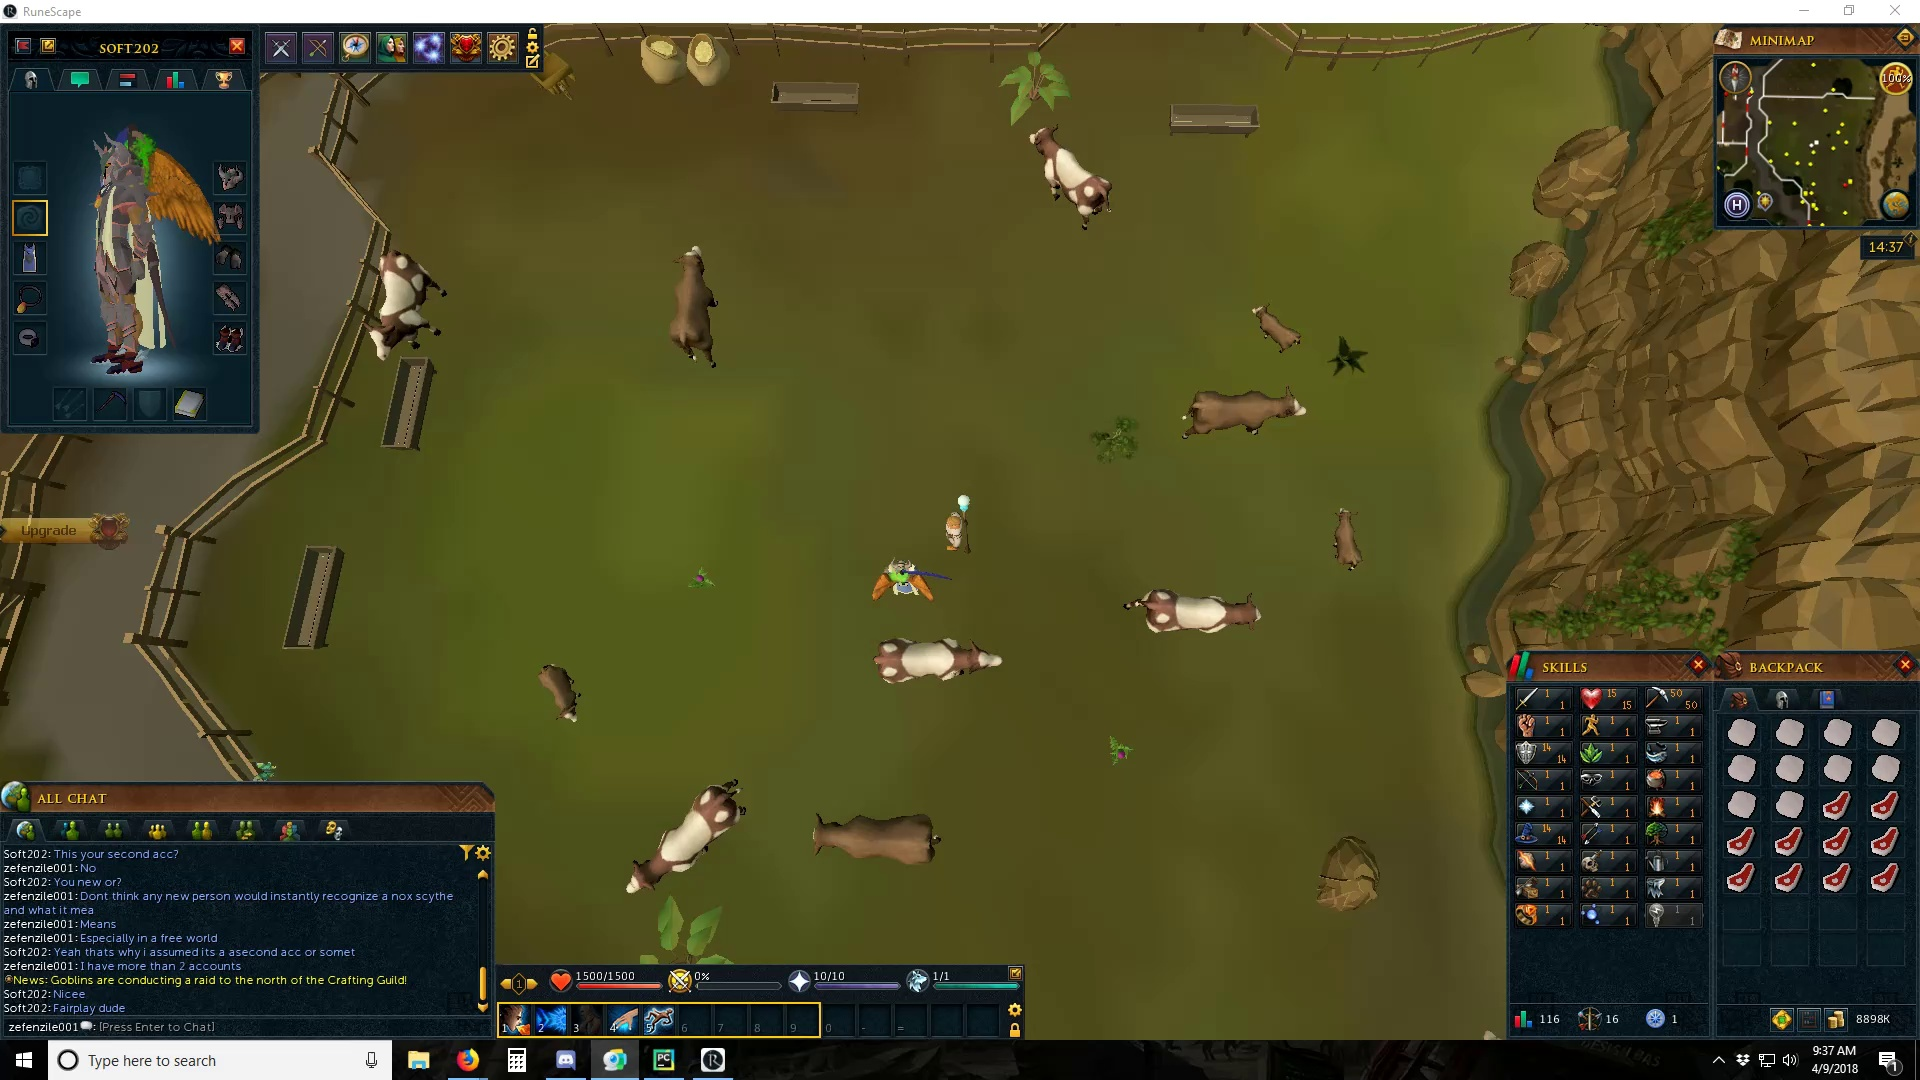calf: (531, 665, 585, 727), (1247, 301, 1303, 353), (1331, 502, 1366, 574)
cow: (622, 775, 749, 895), (368, 247, 452, 359), (1031, 124, 1116, 228), (807, 810, 942, 868), (872, 636, 1004, 691), (1175, 386, 1309, 438), (669, 243, 723, 369), (1122, 585, 1265, 633)
